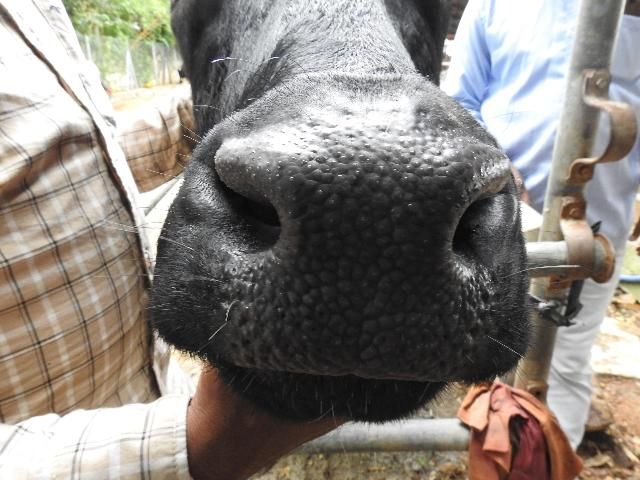Muzzle: (267, 120, 457, 374)
